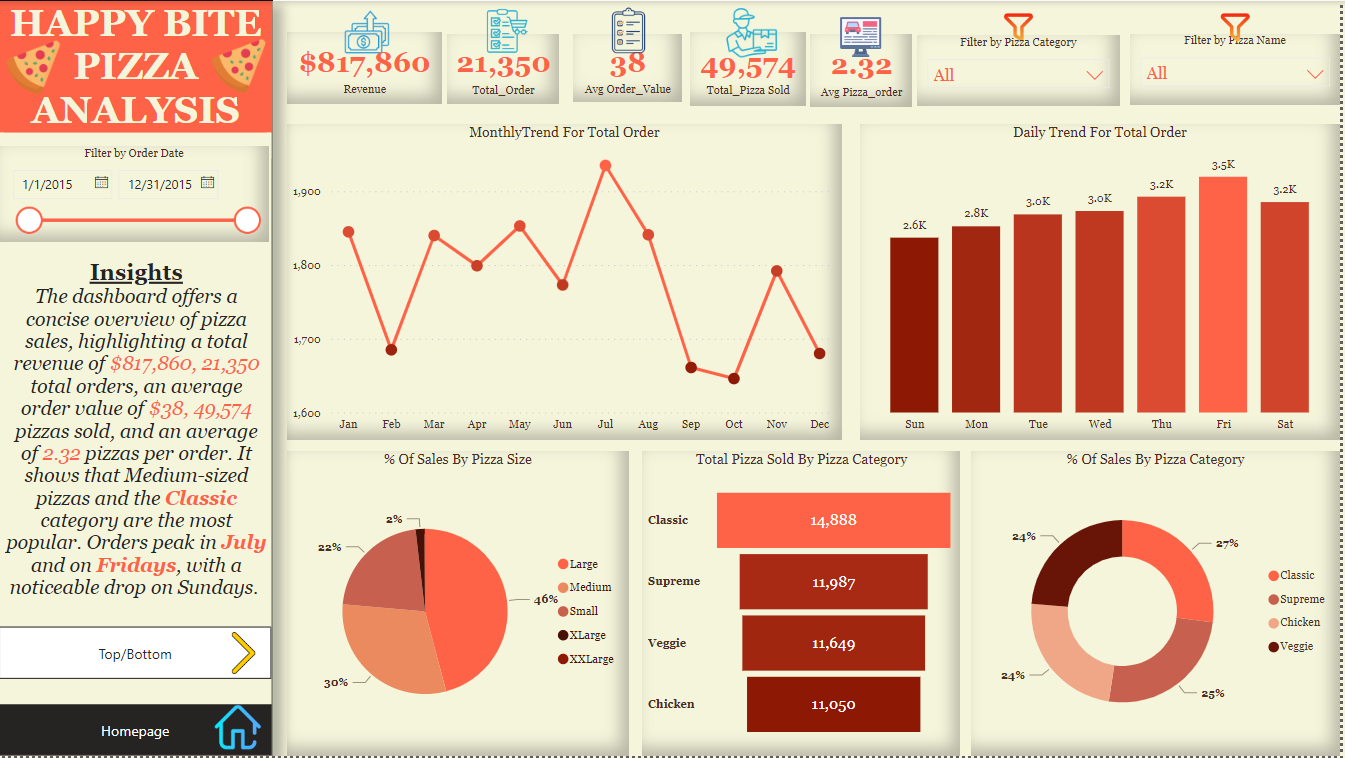

The dashboard page shown, as its layout file describes it:
{"tool":"powerbi","page":{"name":"Homepage","canvas":[1280,720],"ordinal":0},"visuals":[{"type":"image","box":[303.6,0,95.4,58.8],"z":0,"group":"g4"},{"type":"group","id":"g1","title":"Group 1","box":[659.6,29.4,109.7,69.9],"z":0,"group":"g7"},{"type":"group","id":"g2","title":"Group 1","box":[774,31.8,97,69.9],"z":0},{"type":"shape","box":[0,0,260.5,720],"z":1000},{"type":"image","box":[679.1,0,76.3,60.4],"z":1000,"group":"g7"},{"type":"card","fields":{"Values":["_Measures.Total_Pizza Sold"]},"box":[659.6,29.4,109.7,69.9],"z":1000,"group":"g1"},{"type":"card","fields":{"Values":["_Measures.Revenue"]},"box":[275,30.2,147.8,68.3],"z":1000,"group":"g4"},{"type":"card","fields":{"Values":["_Measures.Avg Order_Value"]},"box":[547.7,31.5,103.3,65.2],"z":1000,"group":"g3"},{"type":"card","fields":{"Values":["_Measures.Total_Order"]},"box":[427.5,31.8,106.5,66.8],"z":1000,"group":"g5"},{"type":"card","fields":{"Values":["_Measures.Avg Pizza_order"]},"box":[774,31.8,97,69.9],"z":1000,"group":"g2"},{"type":"clusteredColumnChart","title":"Daily Trend For Total Order","fields":{"Y":["_Measures.Total_Order"],"Category":["pizza_sales.Day_Name"]},"box":[821.7,117.6,457.7,302],"z":2000},{"type":"group","id":"g3","title":"Group 1","box":[547.7,31.5,103.3,65.2],"z":2006,"group":"g6"},{"type":"image","box":[429.2,1.6,111.8,53.6],"z":2016,"group":"g5"},{"type":"image","box":[546.8,0,108.1,55.6],"z":2019,"group":"g6"},{"type":"card","title":"HAPPY BITE PIZZA ANALYSIS","fields":{"Values":["_Measures.Total_Pizza Sold"]},"box":[0,0,260.7,125.6],"z":3000},{"type":"group","id":"g4","title":"Group 1","box":[275,0,147.8,98.5],"z":4000},{"type":"image","box":[928.2,0,90.6,49.3],"z":5000},{"type":"image","box":[777.2,7.9,90.6,50.9],"z":6000},{"type":"image","box":[195.5,30.2,65.2,63.6],"z":7000},{"type":"group","id":"g5","title":"Group 2","box":[427.5,1.6,114.4,97],"z":8000},{"type":"group","id":"g6","title":"Group 3","box":[546.8,0,108.1,96.6],"z":9000},{"type":"group","id":"g7","title":"Group 4","box":[659.6,0,109.7,100.1],"z":10000},{"type":"lineChart","title":"MonthlyTrend For Total Order","fields":{"Category":["pizza_sales.Month Name"],"Y":["_Measures.Total_Order"]},"box":[275,117.6,529.3,302],"z":11000},{"type":"donutChart","title":"% Of Sales By Pizza Category","fields":{"Category":["pizza_sales.pizza_category"],"Y":["_Measures.Revenue"]},"box":[927.6,429.4,352.1,290.6],"z":12000},{"type":"pieChart","title":"% Of Sales By Pizza Size","fields":{"Category":["pizza_sales.pizza_size"],"Y":["_Measures.Revenue"]},"box":[275,429.1,325.8,290.9],"z":13000},{"type":"funnel","title":"Total Pizza Sold By Pizza Category","fields":{"Category":["pizza_sales.pizza_category"],"Y":["_Measures.Total_Pizza Sold"]},"box":[613.5,429.1,303.6,290.9],"z":14000},{"type":"shape","box":[0,126,260.5,24.3],"z":15000},{"type":"image","box":[0,31.8,65.2,63.6],"z":16000},{"type":"slicer","title":"Filter by Pizza Category","fields":{"Values":["pizza_sales.pizza_category"]},"box":[876,32.9,193.2,67.3],"z":17000},{"type":"textbox","box":[0,241.9,261.9,355],"z":18000},{"type":"pageNavigator","box":[0,671.3,260.5,48.7],"z":19000},{"type":"pageNavigator","box":[0,596.9,260.5,50.1],"z":20000},{"type":"image","box":[193.2,665.6,68.7,54.4],"z":21000},{"type":"image","box":[204.7,596.9,57.3,50.1],"z":22000},{"type":"slicer","title":"Filter by Order Date","fields":{"Values":["pizza_sales.order_date"]},"box":[0,138.8,257.7,91.6],"z":23000},{"type":"slicer","title":"Filter by Pizza Name","fields":{"Values":["pizza_sales.pizza_name"]},"box":[1079.3,31.5,200.4,67.3],"z":24000},{"type":"image","box":[1133.7,0,91.6,48.7],"z":25000}]}

Visuals, with their boxes in screenshot pixels (x1, y1, x2, y2), scaled from the page's 1280x720 canvas onto the 1345x758 screenshot:
image: Rect(319, 0, 419, 62)
"Group 1" group: Rect(693, 31, 808, 105)
"Group 1" group: Rect(813, 33, 915, 107)
shape: Rect(0, 0, 274, 757)
image: Rect(714, 0, 794, 64)
card - _Measures.Total_Pizza Sold: Rect(693, 31, 808, 105)
card - _Measures.Revenue: Rect(289, 32, 444, 104)
card - _Measures.Avg Order_Value: Rect(576, 33, 684, 102)
card - _Measures.Total_Order: Rect(449, 33, 561, 104)
card - _Measures.Avg Pizza_order: Rect(813, 33, 915, 107)
"Daily Trend For Total Order" clusteredColumnChart: Rect(863, 124, 1344, 442)
"Group 1" group: Rect(576, 33, 684, 102)
image: Rect(451, 2, 568, 58)
image: Rect(575, 0, 688, 59)
"HAPPY BITE PIZZA ANALYSIS" card: Rect(0, 0, 274, 132)
"Group 1" group: Rect(289, 0, 444, 104)
image: Rect(975, 0, 1071, 52)
image: Rect(817, 8, 912, 62)
image: Rect(205, 32, 274, 99)
"Group 2" group: Rect(449, 2, 569, 104)
"Group 3" group: Rect(575, 0, 688, 102)
"Group 4" group: Rect(693, 0, 808, 105)
"MonthlyTrend For Total Order" lineChart: Rect(289, 124, 845, 442)
"% Of Sales By Pizza Category" donutChart: Rect(975, 452, 1344, 757)
"% Of Sales By Pizza Size" pieChart: Rect(289, 452, 631, 757)
"Total Pizza Sold By Pizza Category" funnel: Rect(645, 452, 964, 757)
shape: Rect(0, 133, 274, 158)
image: Rect(0, 33, 69, 100)
"Filter by Pizza Category" slicer: Rect(920, 35, 1123, 105)
textbox: Rect(0, 255, 275, 628)
pageNavigator: Rect(0, 707, 274, 757)
pageNavigator: Rect(0, 628, 274, 681)
image: Rect(203, 701, 275, 757)
image: Rect(215, 628, 275, 681)
"Filter by Order Date" slicer: Rect(0, 146, 271, 243)
"Filter by Pizza Name" slicer: Rect(1134, 33, 1344, 104)
image: Rect(1191, 0, 1288, 51)
